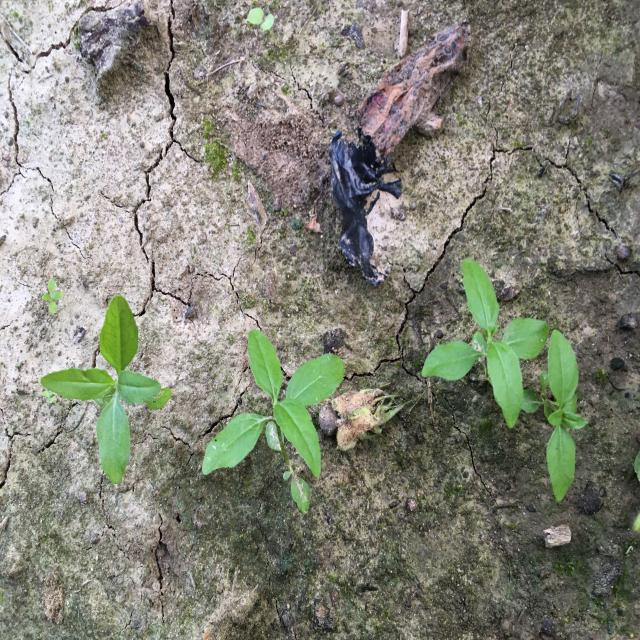Eclipta: (201, 328, 345, 516), (39, 291, 173, 487), (420, 256, 551, 431), (519, 328, 588, 503)
